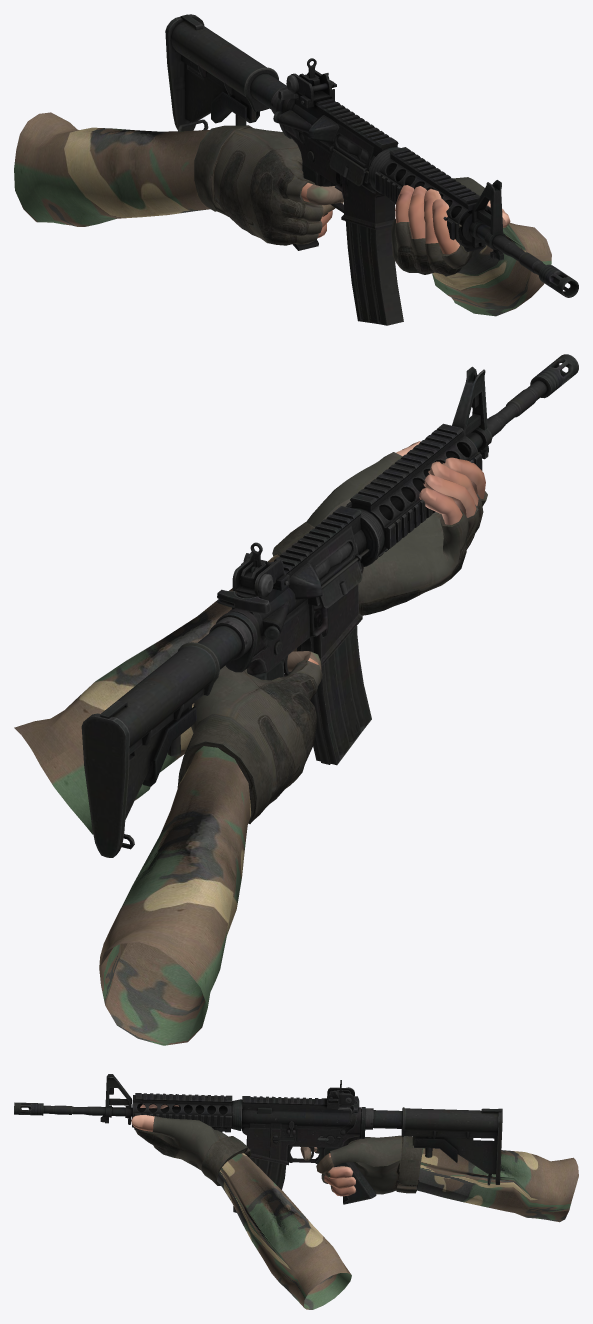
Rendered from equipement.glb.
3 renders of one model, top to bottom at view 1: azimuth 30°, elevation 25°; view 2: azimuth 150°, elevation 25°; view 3: azimuth 270°, elevation 25°, orthographic. The views are drawn at different scales.
Visible parts, largest first — view 1: Bras et gants du pack, Accessoire du pack; view 2: Bras et gants du pack, Accessoire du pack; view 3: Bras et gants du pack, Accessoire du pack.
Part boxes in pixels (bbox=[...]): Bras et gants du pack: bbox=[14, 112, 551, 316]; Accessoire du pack: bbox=[165, 14, 578, 325]; Bras et gants du pack: bbox=[14, 441, 487, 1045]; Accessoire du pack: bbox=[81, 354, 578, 857]; Bras et gants du pack: bbox=[131, 1104, 578, 1309]; Accessoire du pack: bbox=[14, 1074, 502, 1212].
Bounding box in the file's own units: 0.448 × 0.361 × 1.
4 materials, 4 textured.
